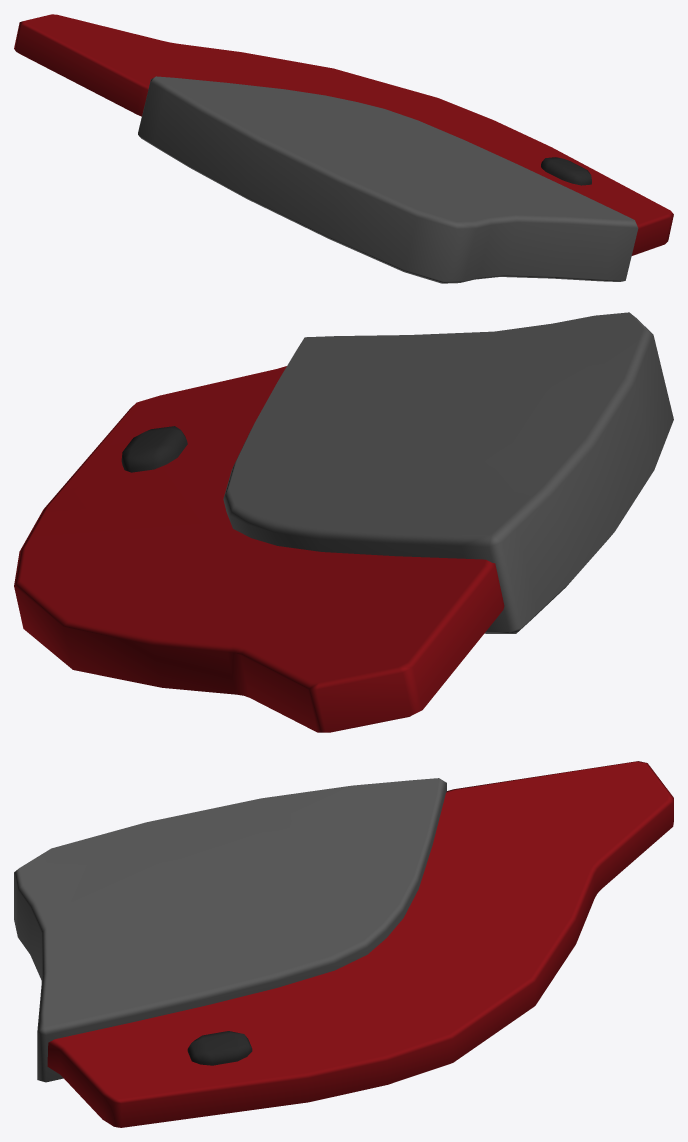
File: Ship_enemy_10_Wing_L.fbx
3 views of the same model, one above another, from view 1: azimuth 30°, elevation 25°; view 2: azimuth 150°, elevation 25°; view 3: azimuth 270°, elevation 25° (orthographic). The views are drawn at different scales.
Parts seen in each view (by area): view 1: Ship_enemy_10_Wing_L; view 2: Ship_enemy_10_Wing_L; view 3: Ship_enemy_10_Wing_L.
Part boxes in pixels (x1,y1,x2,y2): Ship_enemy_10_Wing_L: (14,14,673,283); Ship_enemy_10_Wing_L: (14,312,673,732); Ship_enemy_10_Wing_L: (14,761,673,1127).
Size of the model in its own units: 160 by 53.04 by 201.
